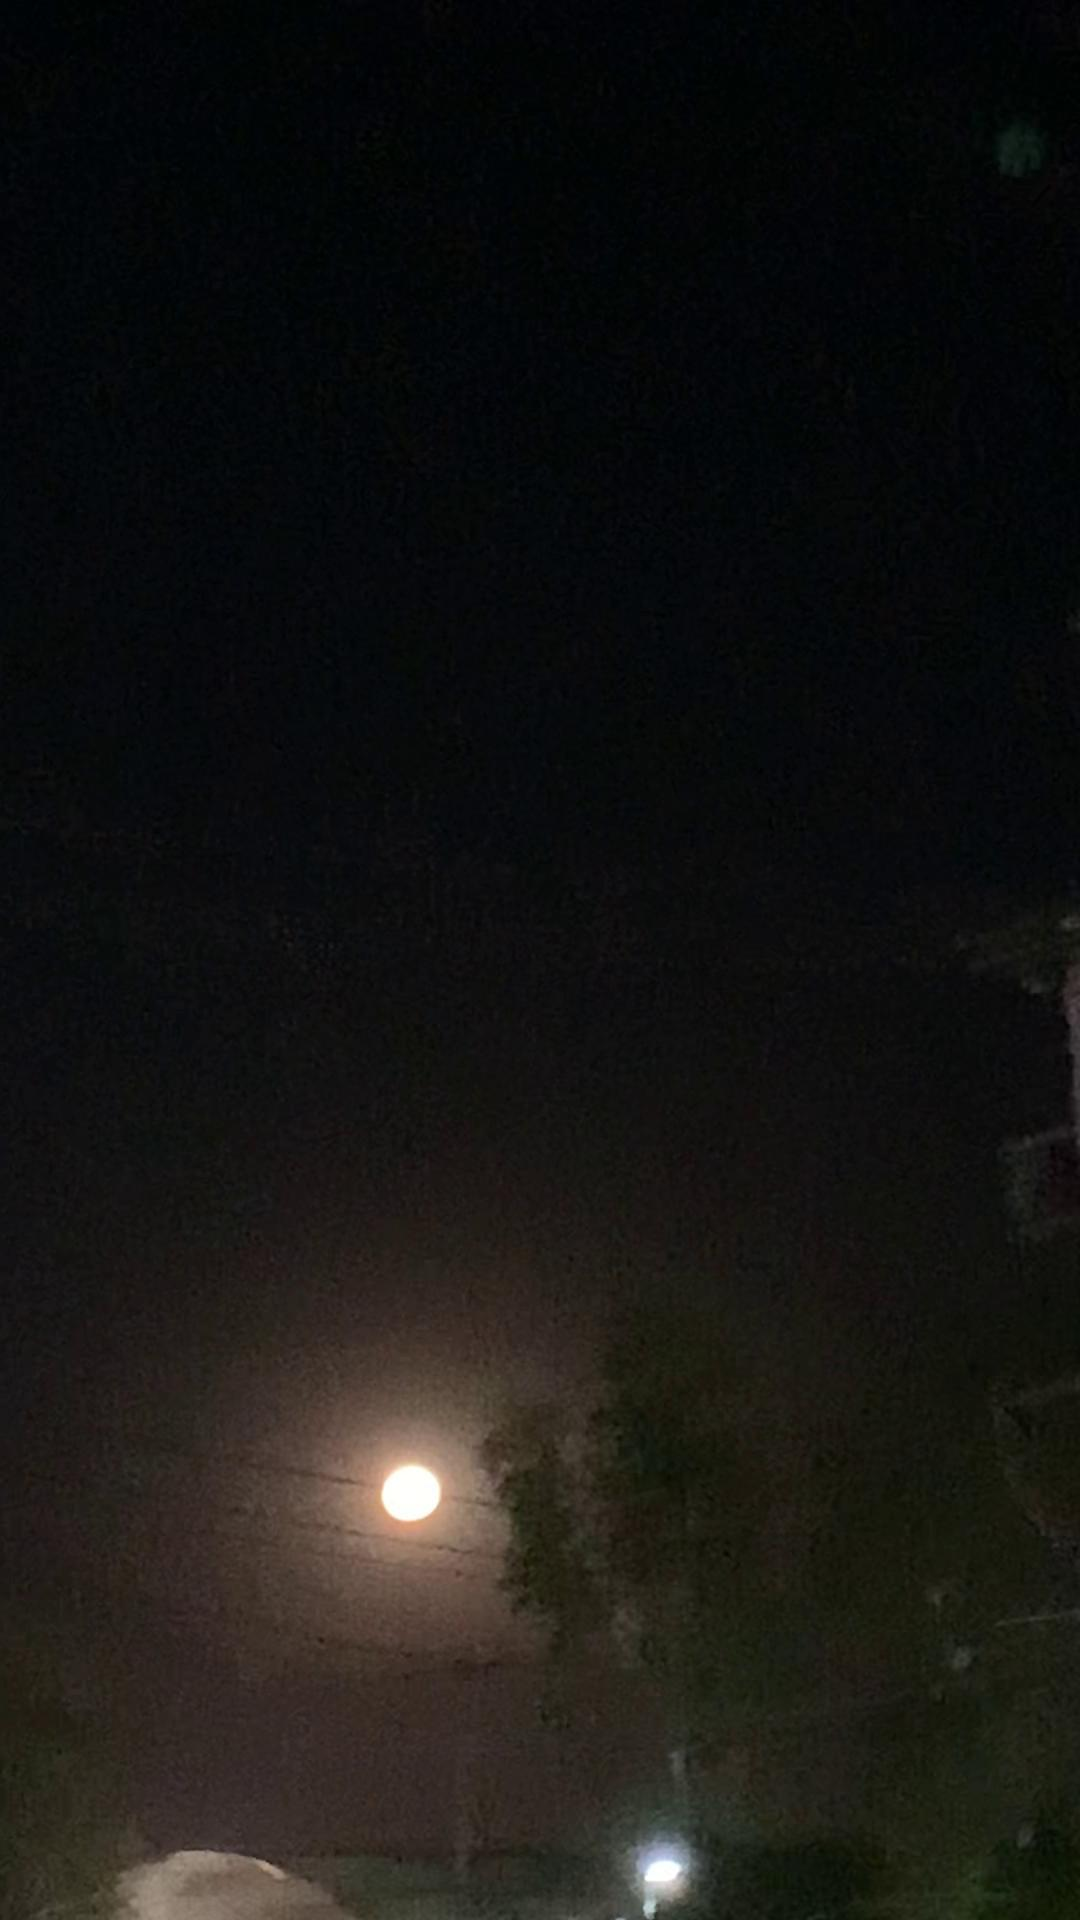moon: (349, 1461, 439, 1536)
